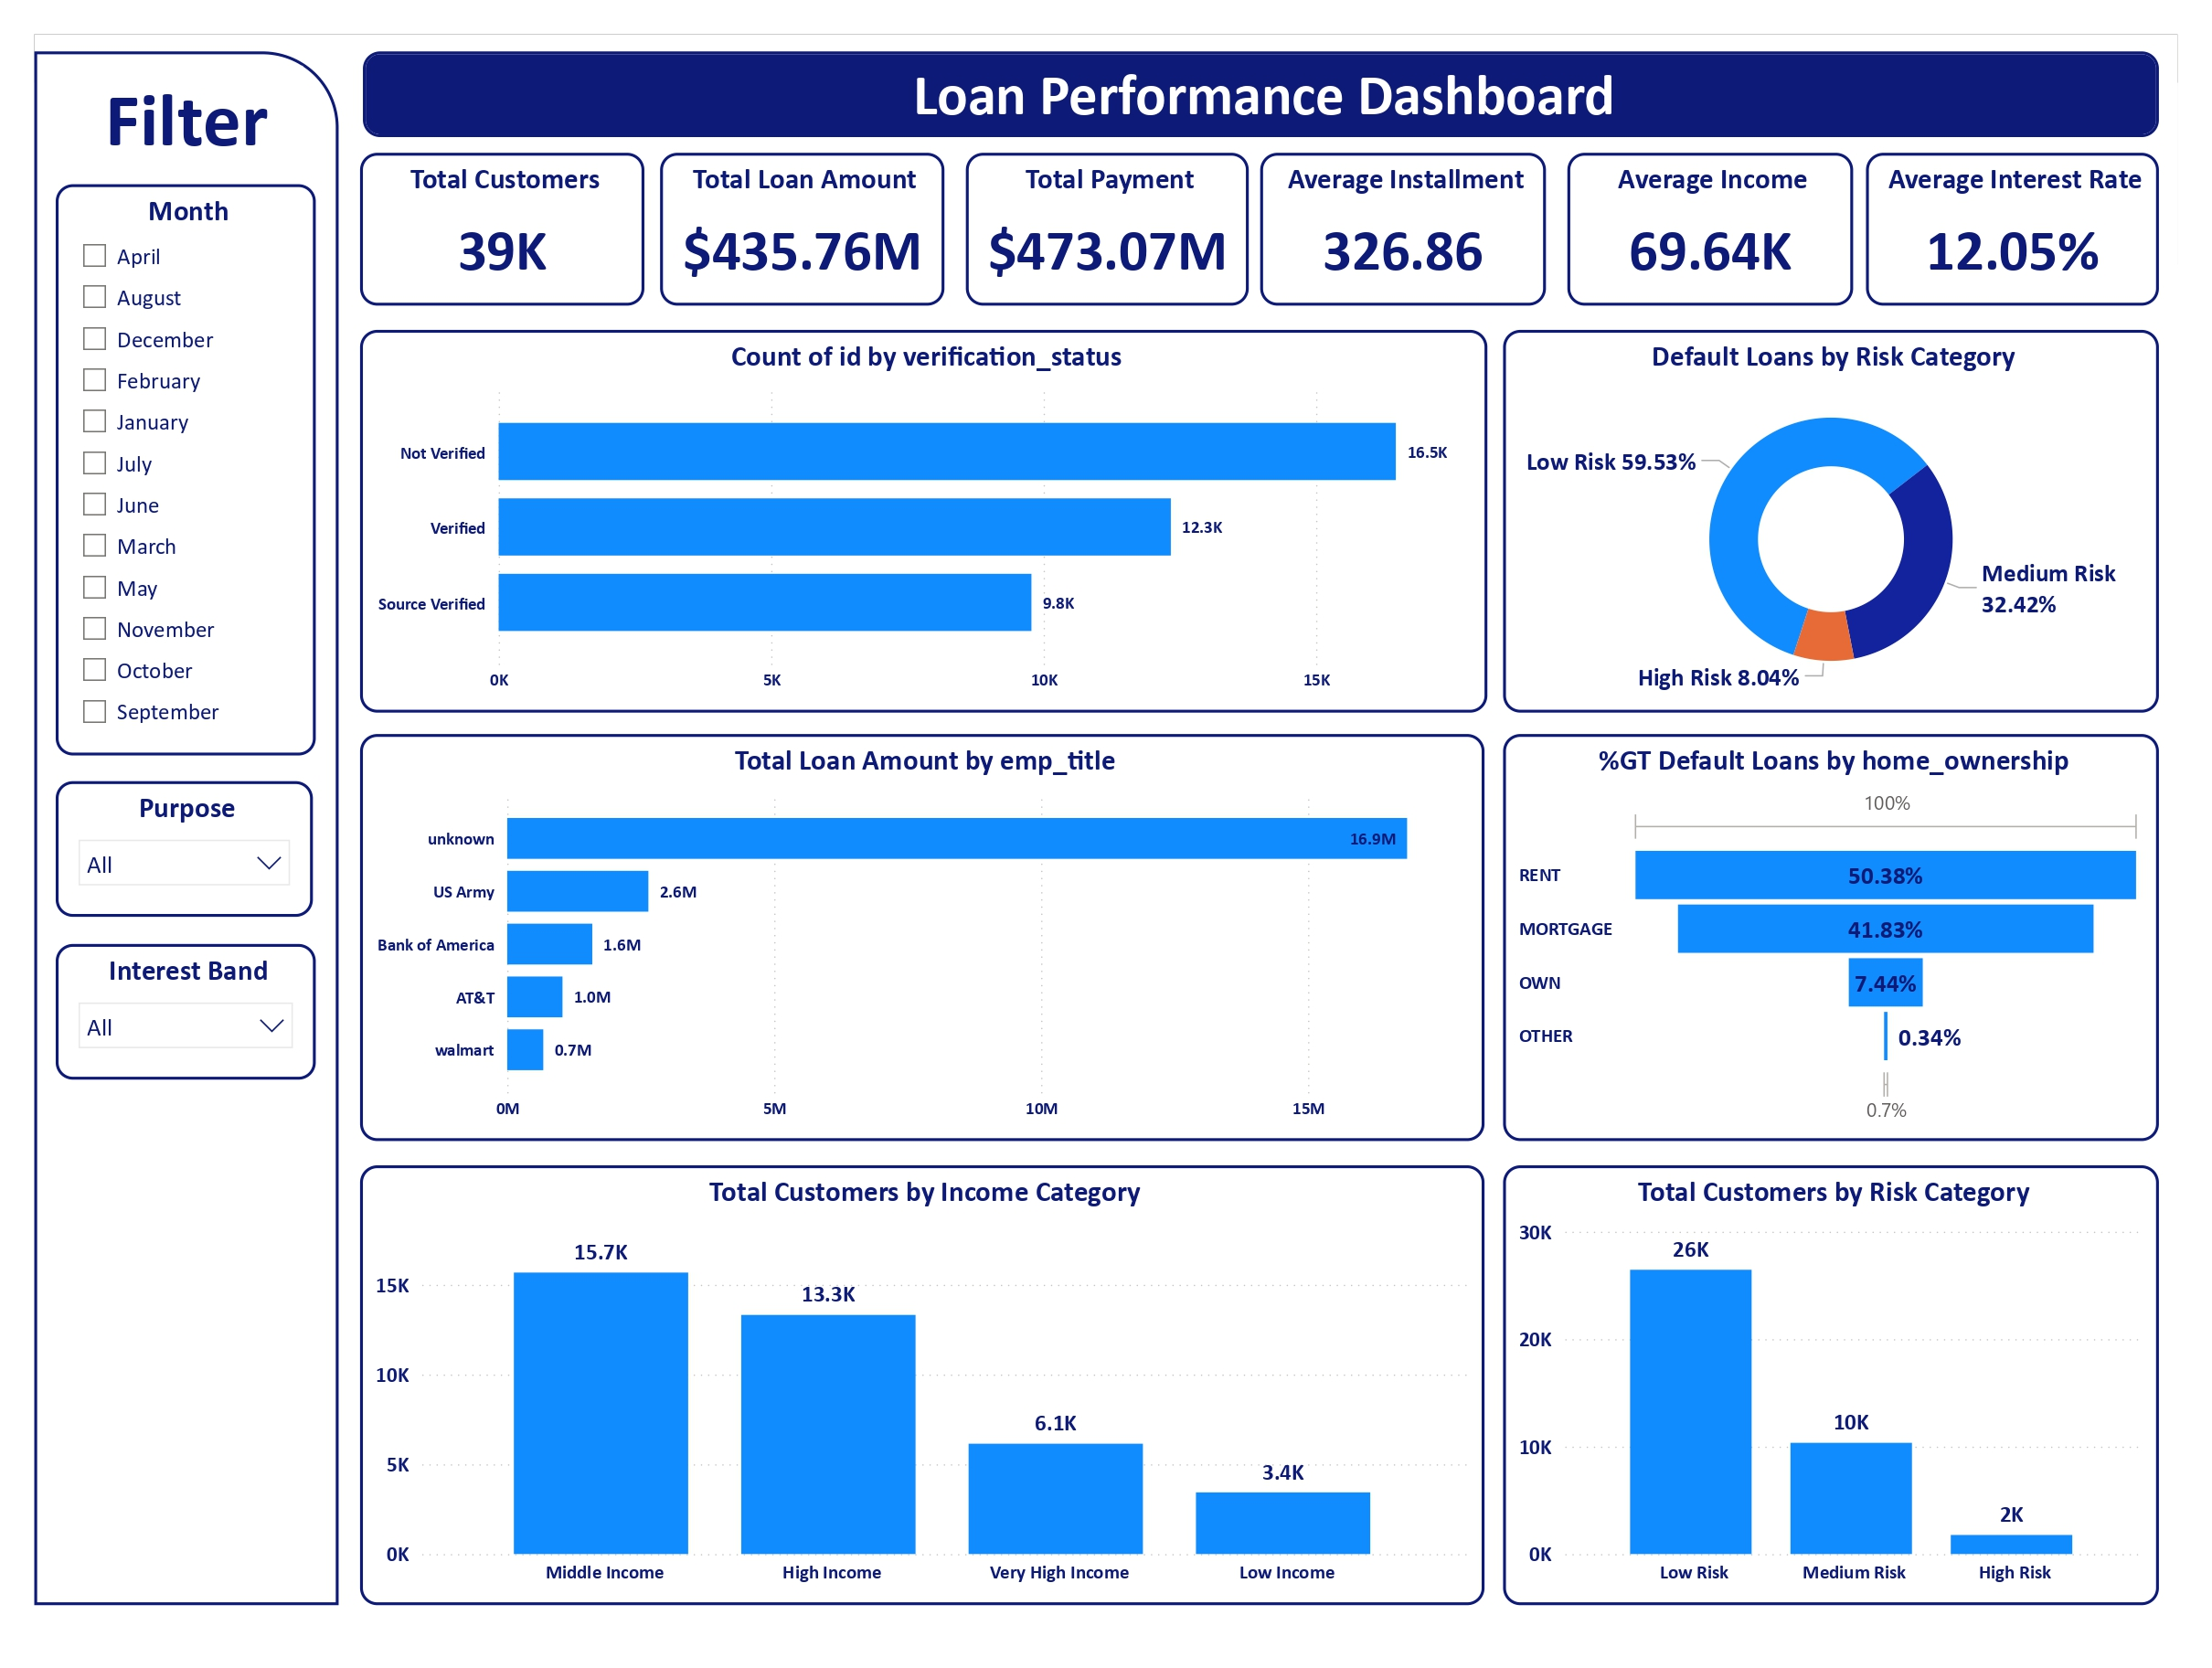

The dashboard page shown, as its layout file describes it:
{"tool":"powerbi","page":{"name":"Risk & Credit Analysis","canvas":[1500,1120],"ordinal":1},"visuals":[{"type":"card","title":"Average Installment","fields":{"Values":["loan.Avg Installment"]},"box":[858.3,83.3,200,106.7],"z":0},{"type":"card","title":"Average Income","fields":{"Values":["loan.Avg Income"]},"box":[1073.3,83.3,200,106.7],"z":1000},{"type":"barChart","fields":{"Y":["Count(loan.id)"],"Category":["loan.verification_status"]},"box":[228.3,206.7,788.3,268.3],"z":2000},{"type":"columnChart","fields":{"Category":["loan.Income Category"],"Y":["loan.Total Customers"]},"box":[228,792,787,308],"z":3000},{"type":"funnel","fields":{"Category":["loan.home_ownership"],"Y":["loan.Default Loans"]},"box":[1028,490,459,285],"z":4000},{"type":"columnChart","fields":{"Y":["loan.Total Customers"],"Category":["loan.Risk Category"]},"box":[1028,792,459,308],"z":5000},{"type":"donutChart","fields":{"Category":["loan.Risk Category"],"Y":["loan.Default Loans"]},"box":[1028,207,459,268],"z":6000},{"type":"card","title":"Total Customers","fields":{"Values":["loan.Total Customers"]},"box":[228.3,83.3,198.3,106.7],"z":7000},{"type":"barChart","fields":{"Category":["loan.emp_title"],"Y":["loan.Total Loan Amount"]},"box":[228.3,490,786.7,285],"z":8000},{"type":"card","title":"Average Interest Rate","fields":{"Values":["loan.Avg Interest Rate"]},"box":[1282,83,205,107],"z":9000},{"type":"card","title":"Total Payment","fields":{"Values":["loan.Total Payment"]},"box":[651.7,83.3,198.3,106.7],"z":10000},{"type":"card","title":"Total Loan Amount","fields":{"Values":["loan.Total Loan Amount"]},"box":[438.3,83.3,198.3,106.7],"z":11000},{"type":"shape","box":[0,11.7,213.3,1088.3],"z":12000},{"type":"textbox","title":"Loan Performance Dashboard","box":[230,12,1257,60],"z":13000},{"type":"textbox","box":[25,21.7,163.3,83.3],"z":14000},{"type":"slicer","title":"Month","fields":{"Values":["loan.Month"]},"box":[15,105,181.7,400],"z":15000},{"type":"slicer","title":"Purpose","fields":{"Values":["loan.purpose"]},"box":[15,523.3,180,95],"z":16000},{"type":"slicer","title":"Interest Band","fields":{"Values":["loan.Interest Band"]},"box":[15,636.7,181.7,95],"z":17000}]}

Visuals, with their boxes on the page's 1500x1120 design canvas (x1, y1, x2, y2). These are canvas units, not pixel positions in the 2212x1668 screenshot, which may show the page scaled, cropped or inside an application window:
"Average Installment" card: 858/83/1058/190
"Average Income" card: 1073/83/1273/190
barChart - Count(loan.id) x loan.verification_status: 228/207/1017/475
columnChart - loan.Income Category x loan.Total Customers: 228/792/1015/1100
funnel - loan.home_ownership x loan.Default Loans: 1028/490/1487/775
columnChart - loan.Total Customers x loan.Risk Category: 1028/792/1487/1100
donutChart - loan.Risk Category x loan.Default Loans: 1028/207/1487/475
"Total Customers" card: 228/83/427/190
barChart - loan.emp_title x loan.Total Loan Amount: 228/490/1015/775
"Average Interest Rate" card: 1282/83/1487/190
"Total Payment" card: 652/83/850/190
"Total Loan Amount" card: 438/83/637/190
shape: 0/12/213/1100
"Loan Performance Dashboard" textbox: 230/12/1487/72
textbox: 25/22/188/105
"Month" slicer: 15/105/197/505
"Purpose" slicer: 15/523/195/618
"Interest Band" slicer: 15/637/197/732
